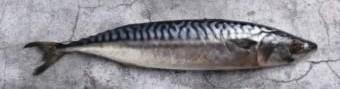fish: (25, 19, 316, 73)
